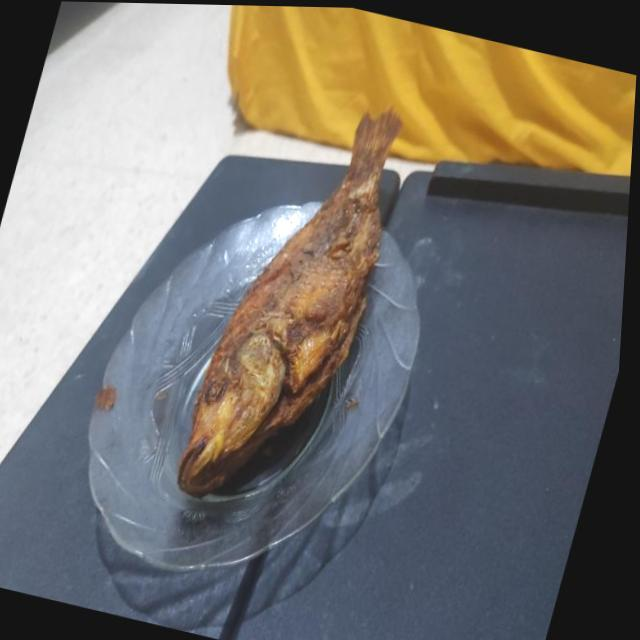ikan_mujair: (178, 110, 400, 494)
